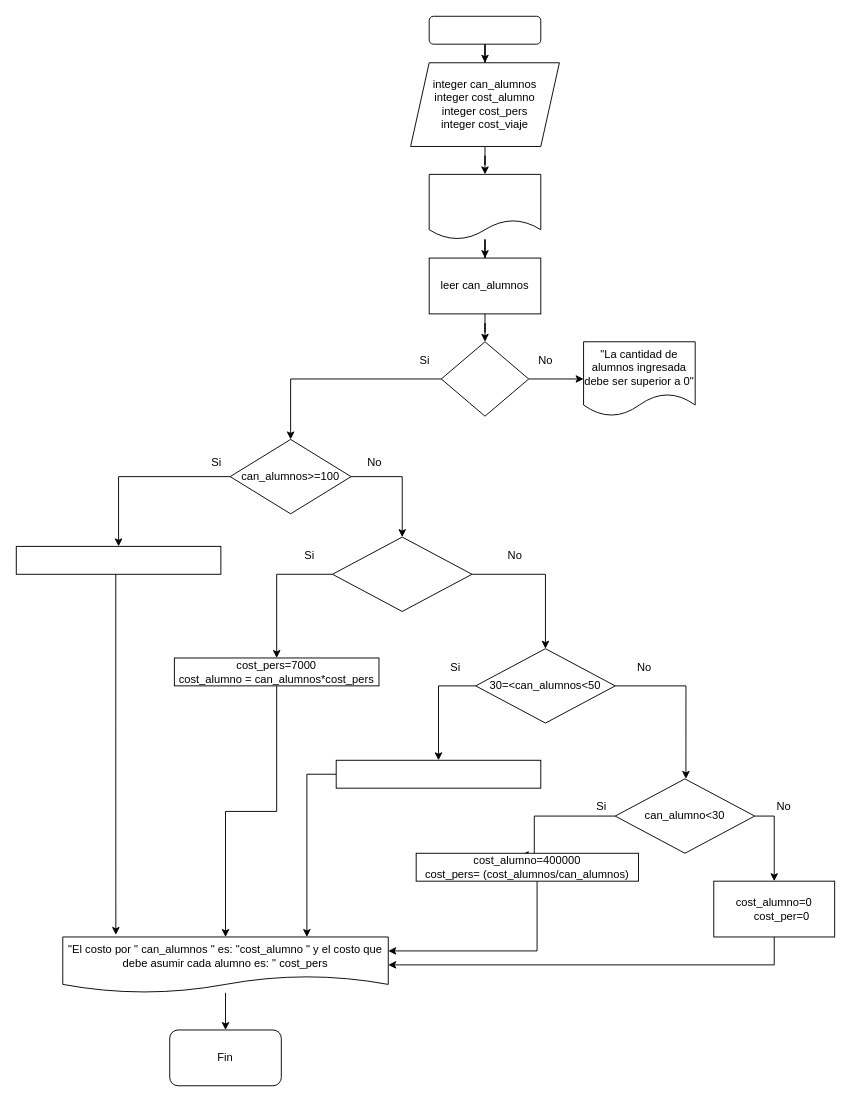
This 851x1102 diagram has some shape labels left out. The shapes that lost their labels are listed below. From the top down, each one's centre as x and y in pixels, then its label:
point 484,29: Inicio
point 484,206: "Ingrese la cantidad de alumnos que viajarán"
point 484,378: can_alumno>0
point 118,559: cost_pers=6500 cost_alumno = can_alumnos*cost_pers
point 402,573: 50=<can_alumnos<100
point 438,773: cost_pers=9500 cost_alumno = can_alumnos*cost_pers
